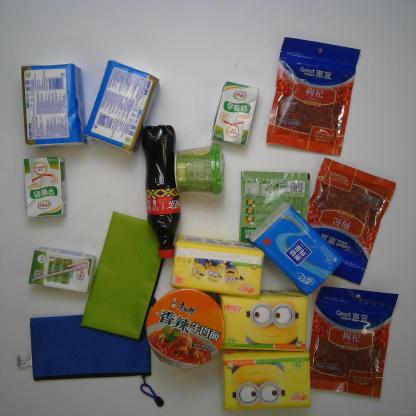Dried Fruit: (263, 35, 362, 160), (303, 155, 396, 286), (300, 284, 397, 402)
Drink: (140, 124, 183, 260)
Instant Drink: (171, 140, 227, 198)
Instant Noodles: (145, 287, 228, 370)
Milk: (209, 79, 262, 148), (27, 245, 97, 294), (22, 154, 63, 218)
Seasoner: (236, 168, 312, 249)
Stationery: (15, 314, 165, 408), (78, 210, 168, 342)
Tissue: (247, 200, 345, 298), (80, 58, 162, 155), (169, 233, 267, 300), (18, 59, 89, 150), (220, 348, 313, 412), (218, 288, 309, 353)
